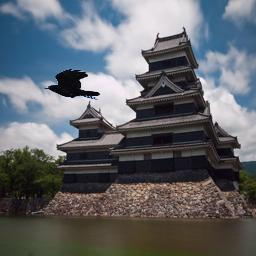Crow: (44, 69, 100, 100)
